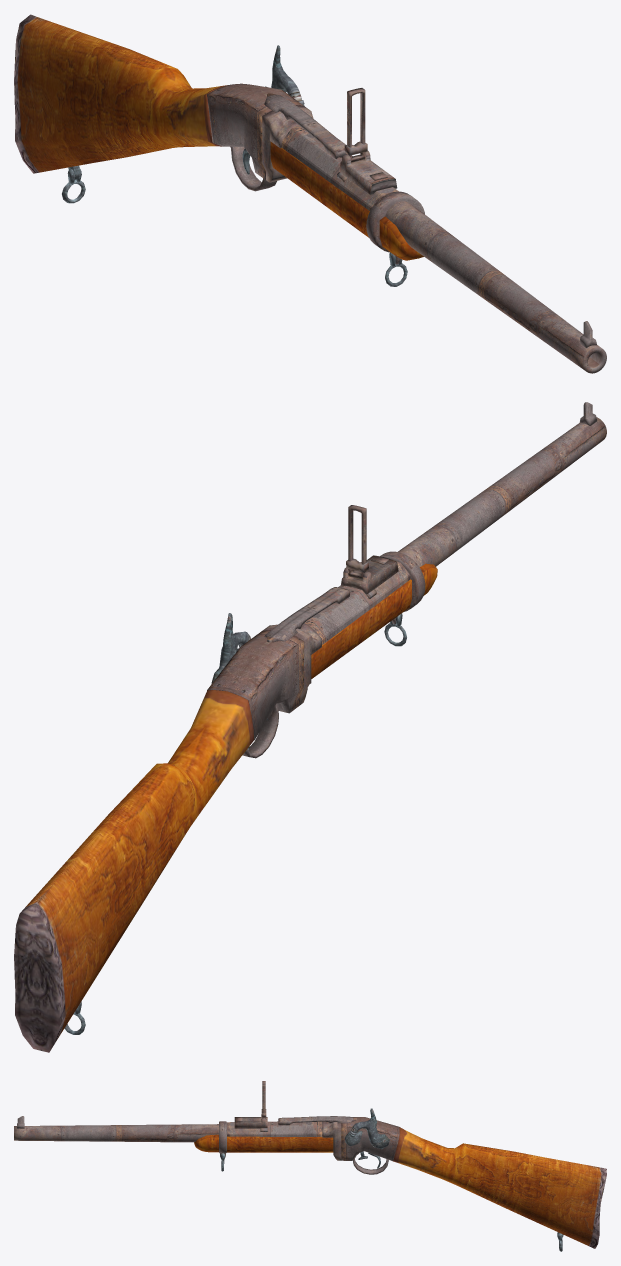
Rendered from SM_SmithCarbine_00.fbx.
The picture shows the model from 3 angles, top to bottom: view 1: azimuth 30°, elevation 25°; view 2: azimuth 150°, elevation 25°; view 3: azimuth 270°, elevation 25°; orthographic projection. The views are drawn at different scales.
Parts seen in each view (by area): view 1: SM_SmithCarbine_00, Barrel.002, Flint.002; view 2: SM_SmithCarbine_00, Barrel.002; view 3: SM_SmithCarbine_00, Barrel.002, Flint.002.
Part boxes in pixels (<box>): SM_SmithCarbine_00: <box>14,14,304,203</box>; Barrel.002: <box>262,88,606,373</box>; Flint.002: <box>265,45,304,104</box>; SM_SmithCarbine_00: <box>14,630,303,1052</box>; Barrel.002: <box>263,402,606,704</box>; SM_SmithCarbine_00: <box>341,1117,606,1251</box>; Barrel.002: <box>14,1081,356,1171</box>; Flint.002: <box>350,1108,389,1149</box>.
Size of the model in its own units: 9.18 by 47.62 by 152.
